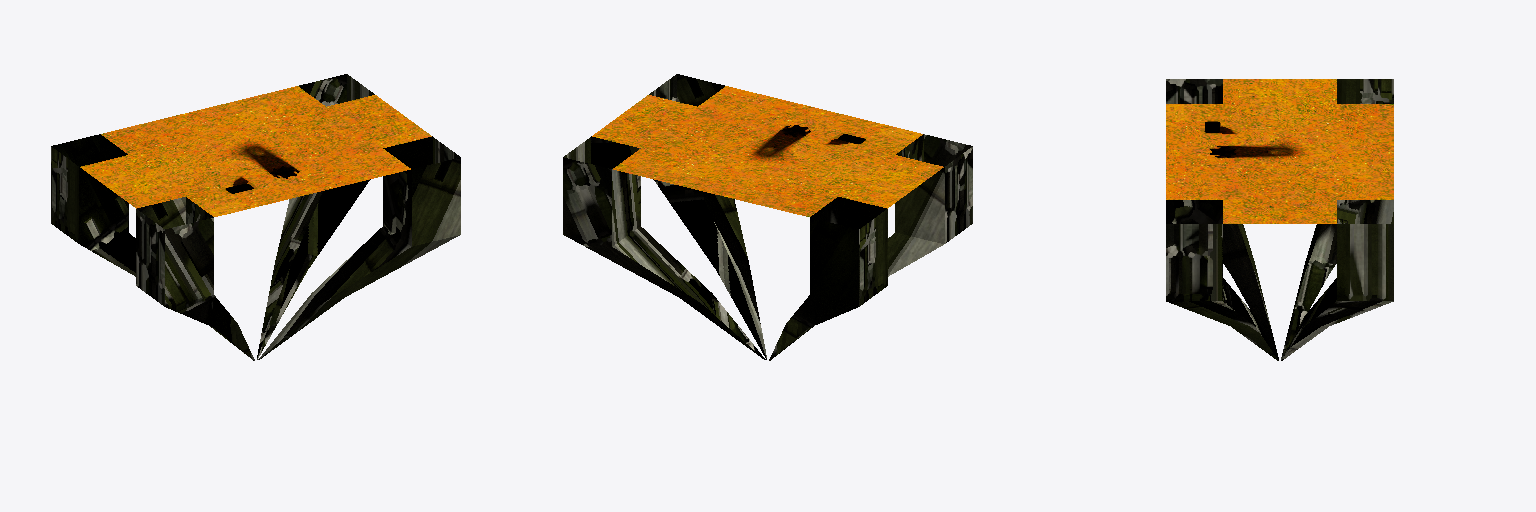
3 renders of one model, left to right at view 1: azimuth 30°, elevation 25°; view 2: azimuth 150°, elevation 25°; view 3: azimuth 270°, elevation 25°, orthographic.
Visible parts, largest first — view 1: Plane; view 2: Plane; view 3: Plane.
Part boxes in pixels (x1,y1,x2,y2): Plane: (51,74,460,360); Plane: (563,74,972,360); Plane: (1166,79,1393,360).
Size of the model in its own units: 60 by 40.39 by 40.
Materials: 2 (2 with a texture image).